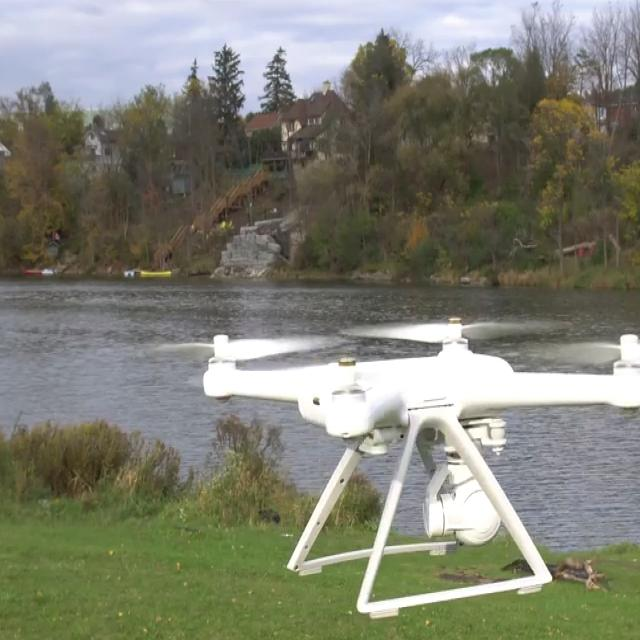drone: (159, 295, 640, 475)
